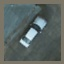car: (18, 16, 47, 48)
